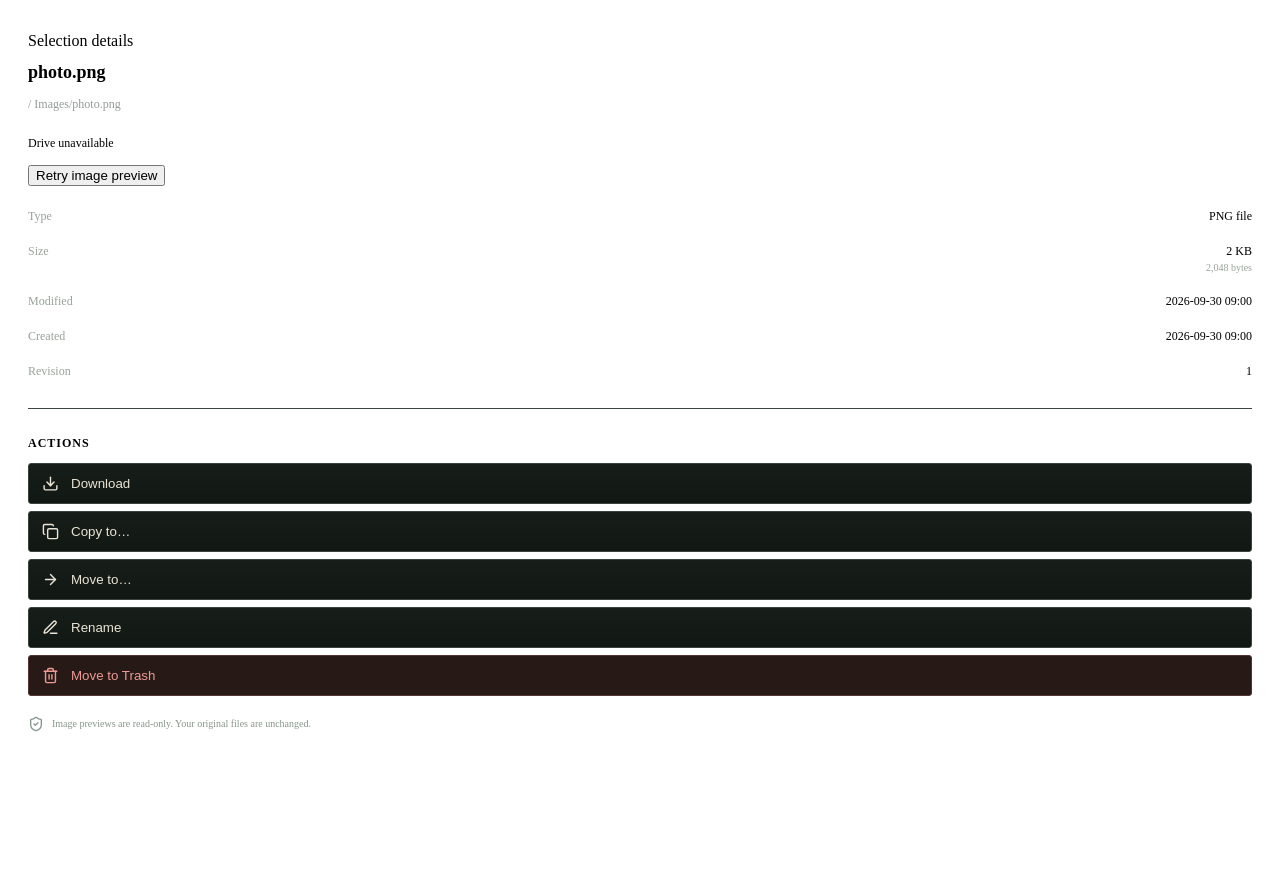
image selection preview › keeps preview failures separate from file actions and supports retry
The width and height of the screenshot is (1280, 884).
Later steps or results of the test are not shown.
Click the button "Retry image preview".
click(97, 176)  # box [28,165,166,186]
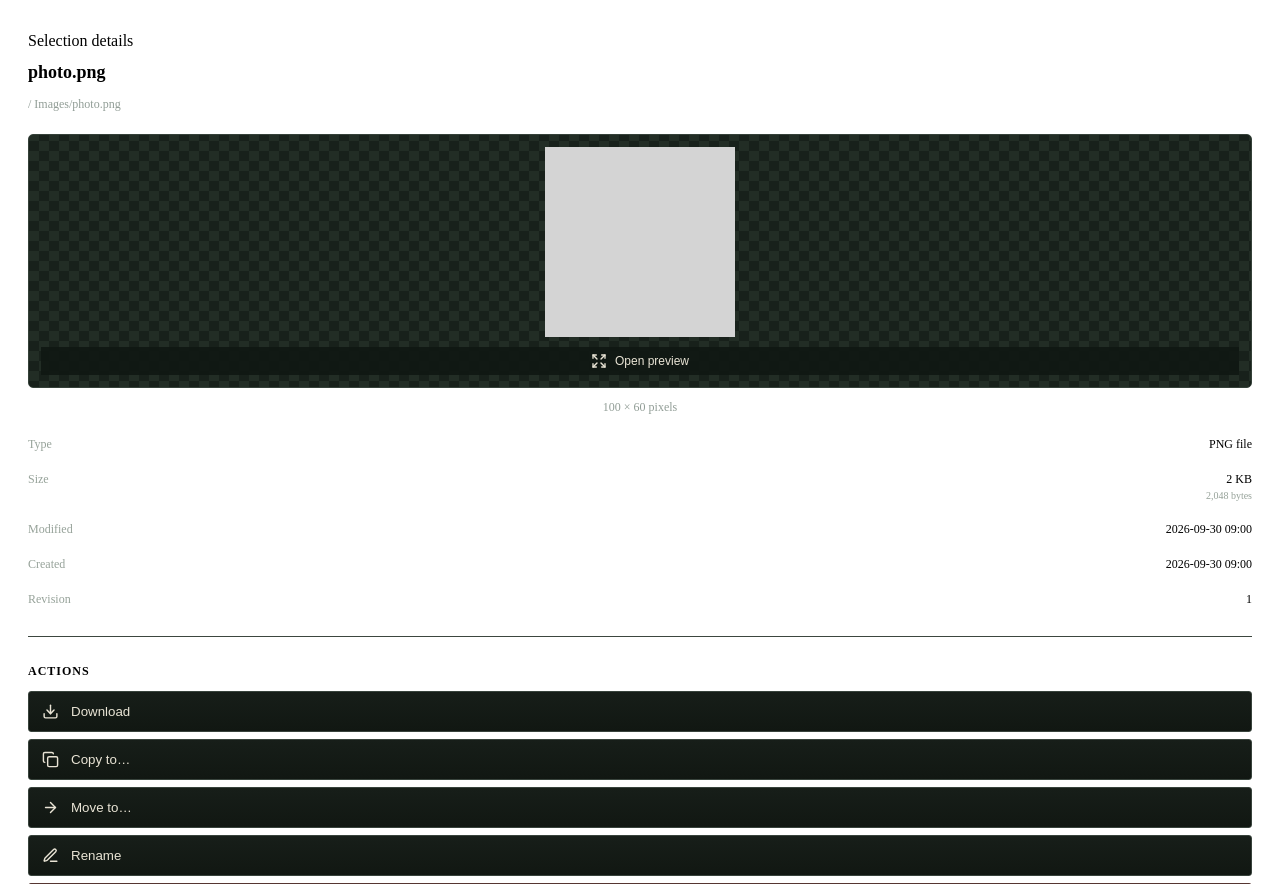
Expected: the button "Download" is enabled, [28,691,1252,732]
Now the button with aria-label "Open image preview: photo.png" is shown, box [28,134,1252,388]
